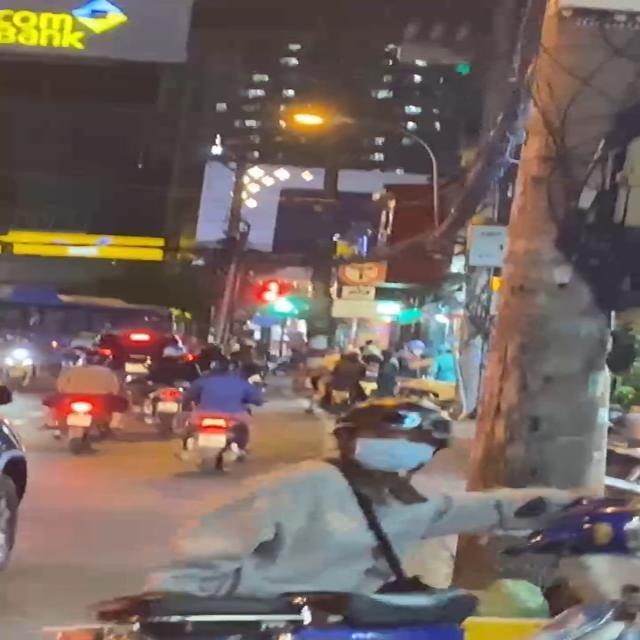137-cam-re-trai-va-re-phai: (336, 257, 384, 287)
